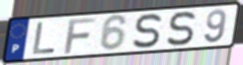6: (98, 13, 131, 53)
9: (203, 8, 228, 44)
F: (63, 16, 99, 55)
L: (31, 21, 58, 56)
S: (131, 12, 164, 50), (165, 10, 198, 47)
